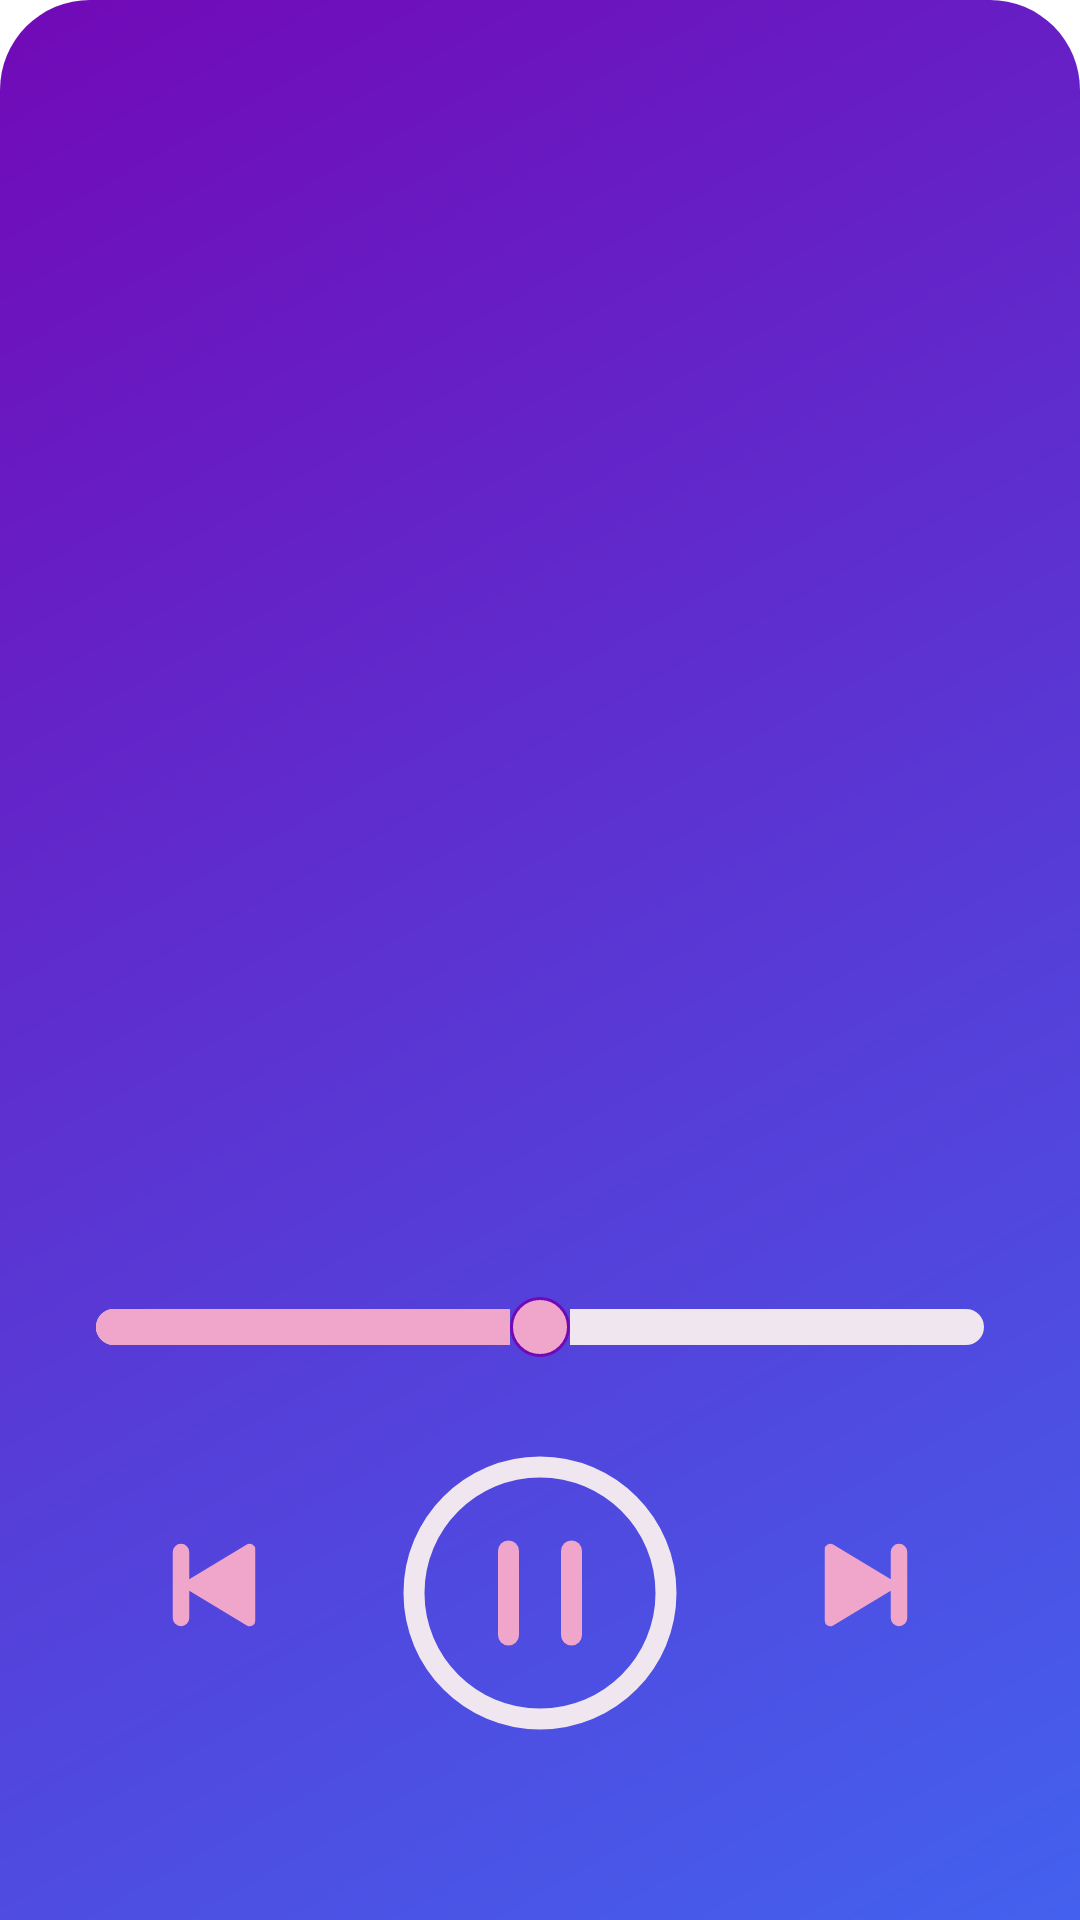

Screen size 1080x1920. Icon name, then its box in pixels as Rect(x1, y1, x2, y2):
play skip back circle: Rect(172, 1543, 256, 1627)
play skip forward circle: Rect(824, 1543, 908, 1627)
Play/Pause button: Rect(403, 1456, 677, 1730)
